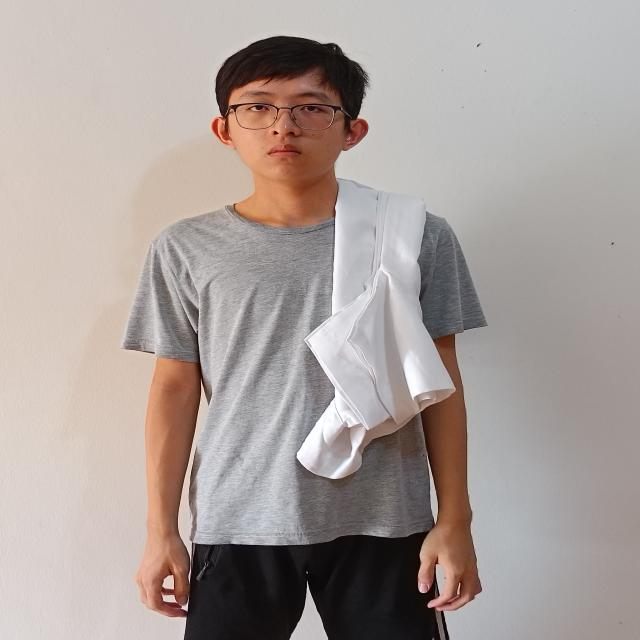person_without_labcoat: (122, 37, 486, 640)
